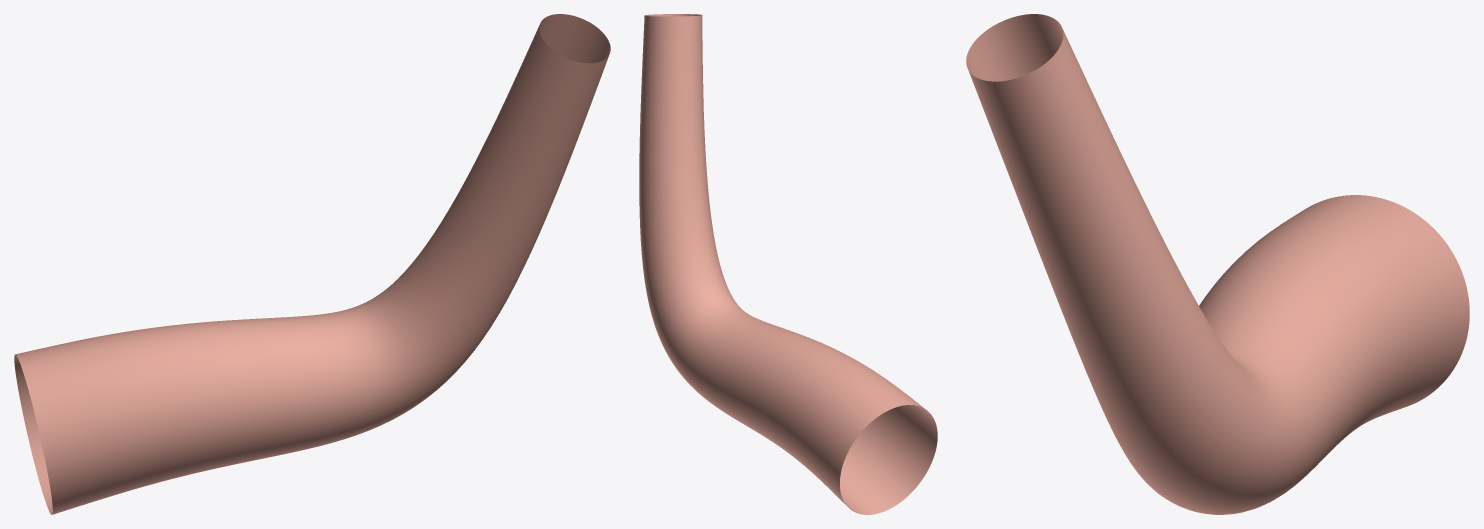
Rendered from Trompa de Falopio Derecha.fbx.
3 renders of one model, left to right at view 1: azimuth 30°, elevation 25°; view 2: azimuth 150°, elevation 25°; view 3: azimuth 270°, elevation 25°, orthographic. The views are drawn at different scales.
Visible parts, largest first — view 1: BezierCurve_001; view 2: BezierCurve_001; view 3: BezierCurve_001.
Boxes of the visible parts, box(x1,y1,x2,y2) form: BezierCurve_001: box(14, 14, 610, 514); BezierCurve_001: box(639, 14, 937, 514); BezierCurve_001: box(966, 14, 1469, 514).
Bounding box in the file's own units: 6.6 × 6.37 × 4.49.
